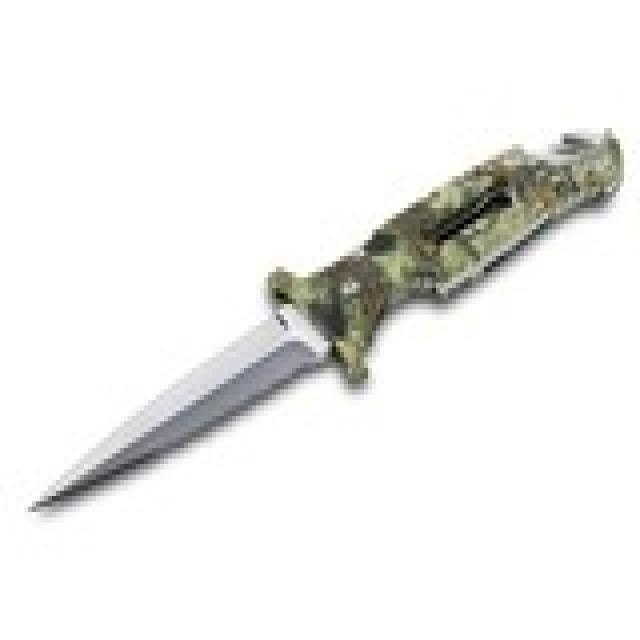Knife: (19, 126, 630, 583)
